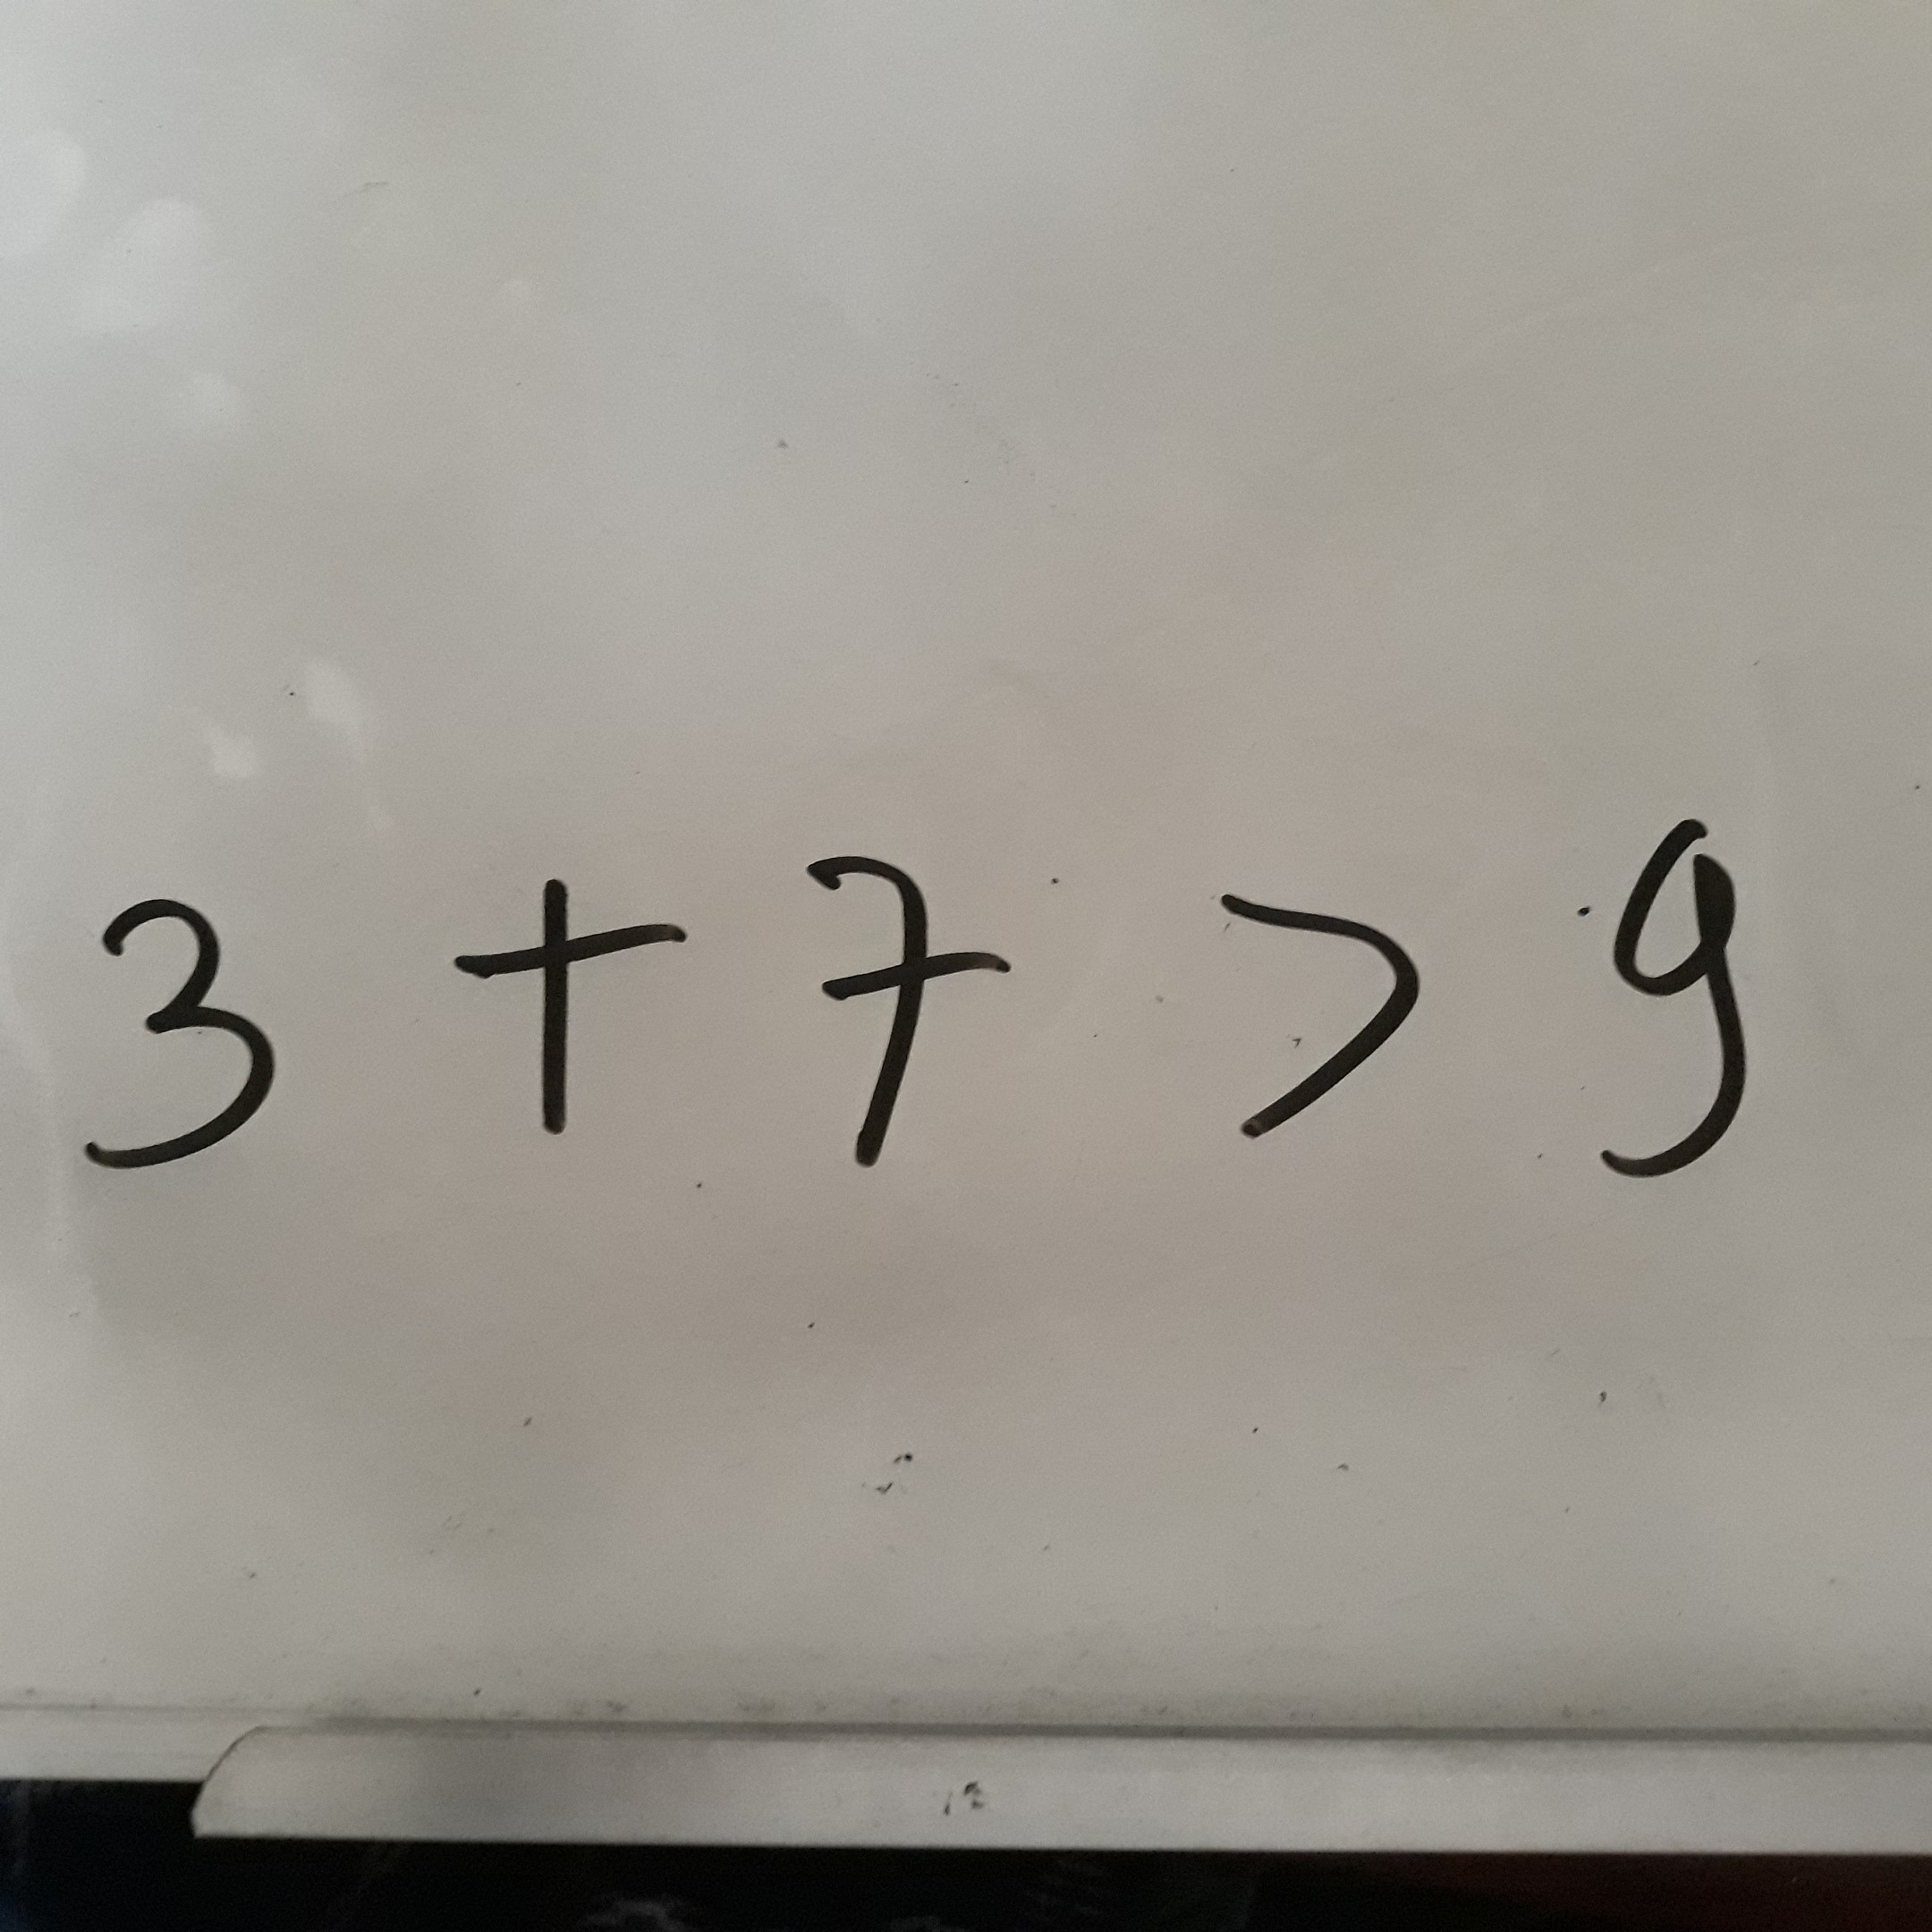morethan: (1192, 834, 1439, 1181)
num3: (60, 890, 302, 1191)
num7: (784, 834, 1030, 1181)
num9: (1538, 818, 1787, 1193)
sum: (436, 852, 708, 1143)
